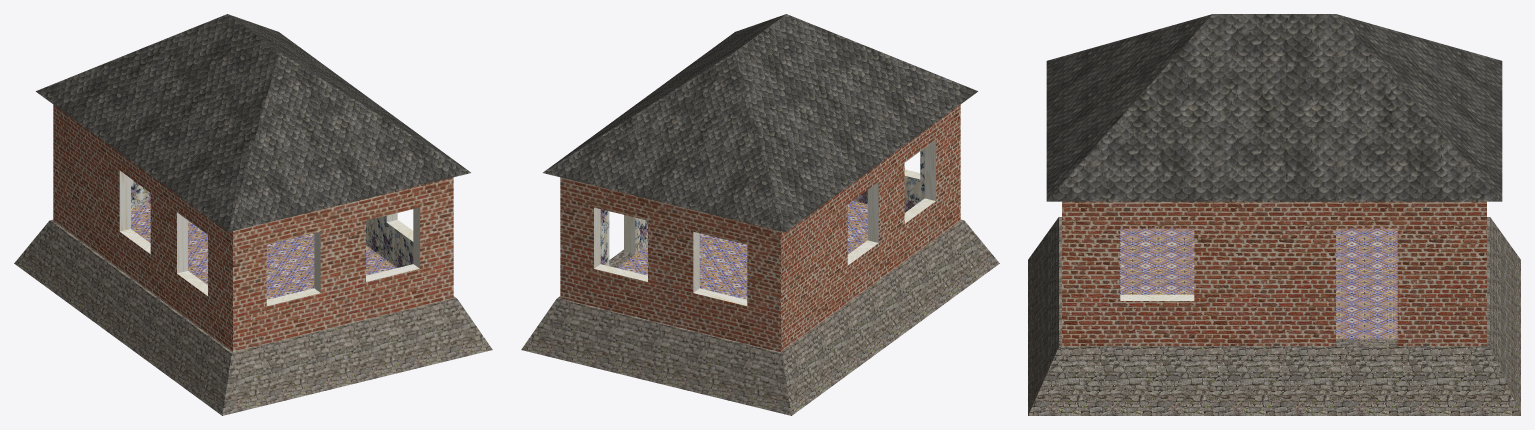
The model's file is new_house.fbx.
The picture shows the model from 3 angles, left to right: view 1: azimuth 30°, elevation 25°; view 2: azimuth 150°, elevation 25°; view 3: azimuth 270°, elevation 25°; orthographic projection. The views are drawn at different scales.
Visible parts, largest first — view 1: Крыша, Стены, Фундамент; view 2: Крыша, Стены, Фундамент; view 3: Крыша, Стены, Фундамент.
Part boxes in pixels (<box>): Крыша: <box>36,14,470,232</box>; Стены: <box>53,104,453,351</box>; Фундамент: <box>14,219,492,415</box>; Крыша: <box>543,14,977,232</box>; Стены: <box>560,104,960,351</box>; Фундамент: <box>521,219,999,415</box>; Крыша: <box>1046,14,1502,201</box>; Стены: <box>1062,201,1486,345</box>; Фундамент: <box>1028,217,1520,415</box>.
Bounding box in the file's own units: 6 × 5.8 × 8.
Materials: 8 (8 with a texture image).
